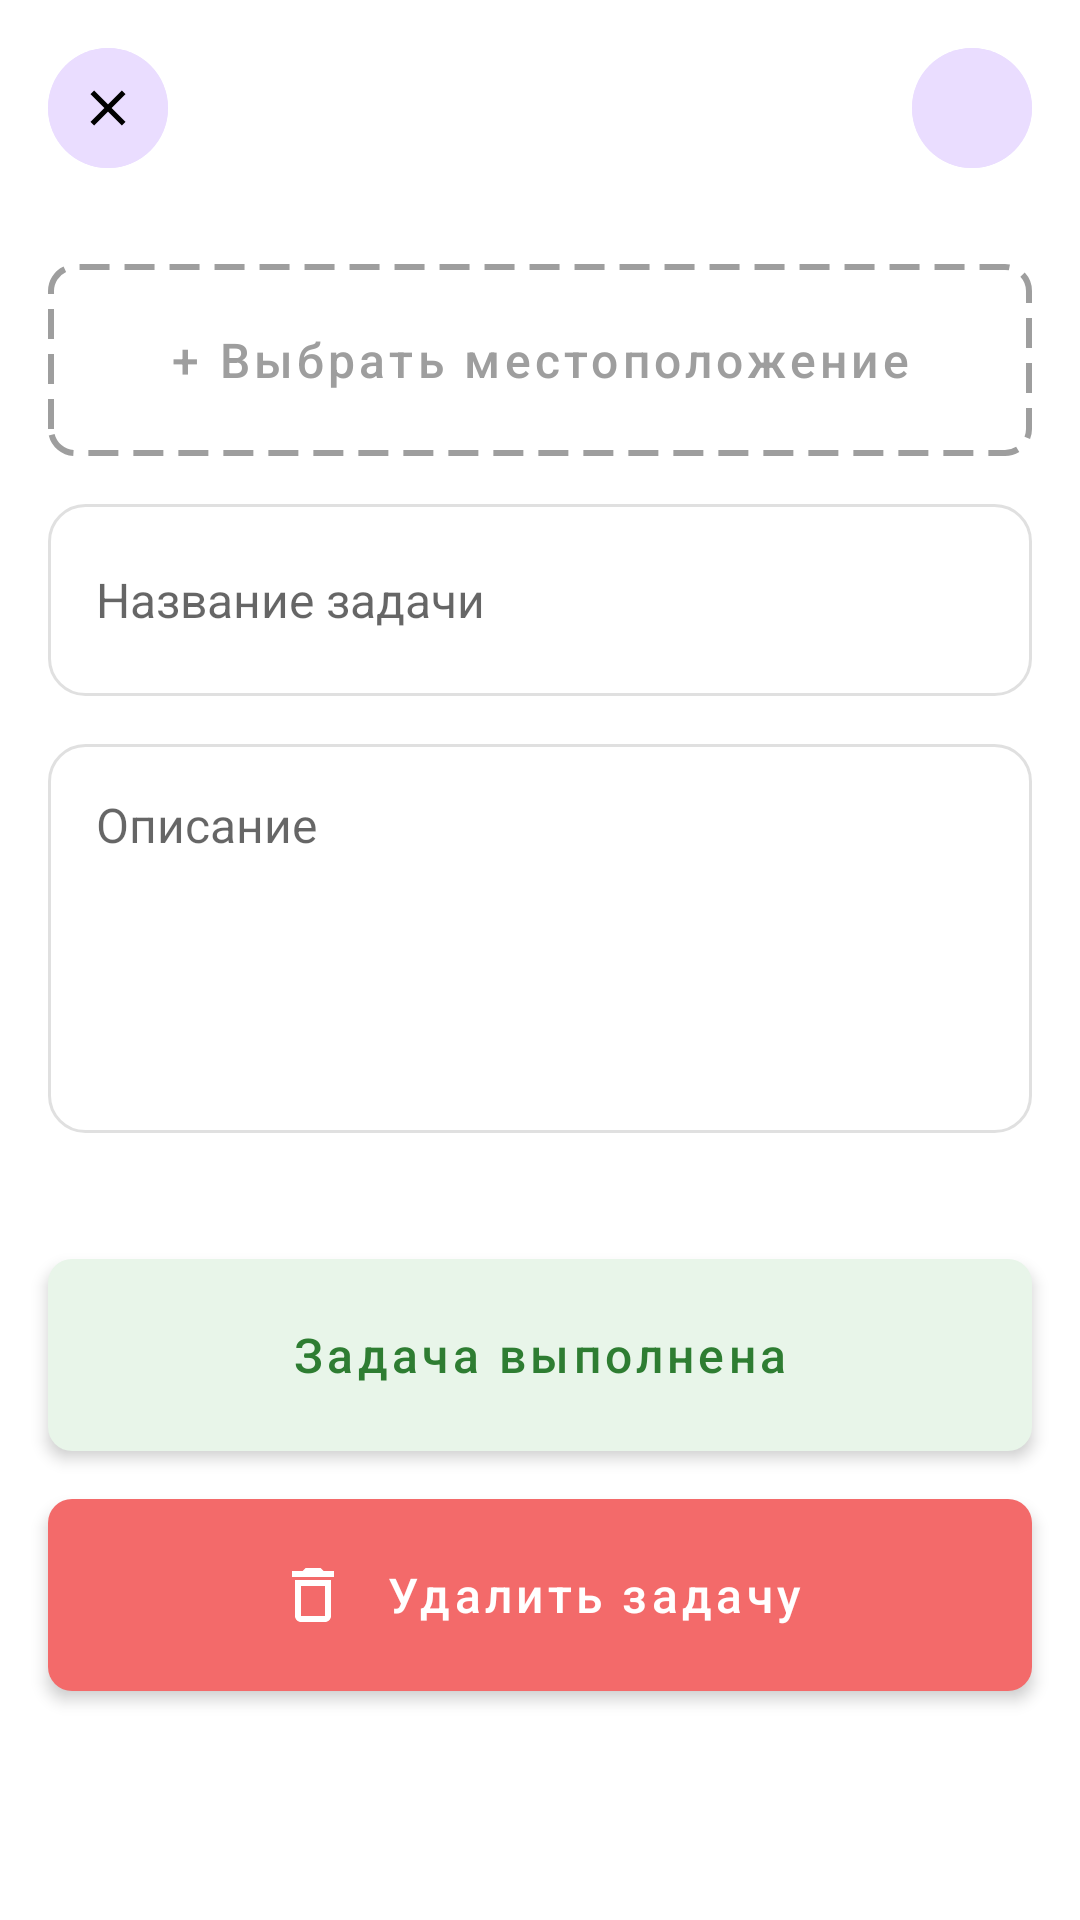

Icons on this 1080px x 1920px Android screen, each with the point to tap as (x,y):
close: (108,108)
